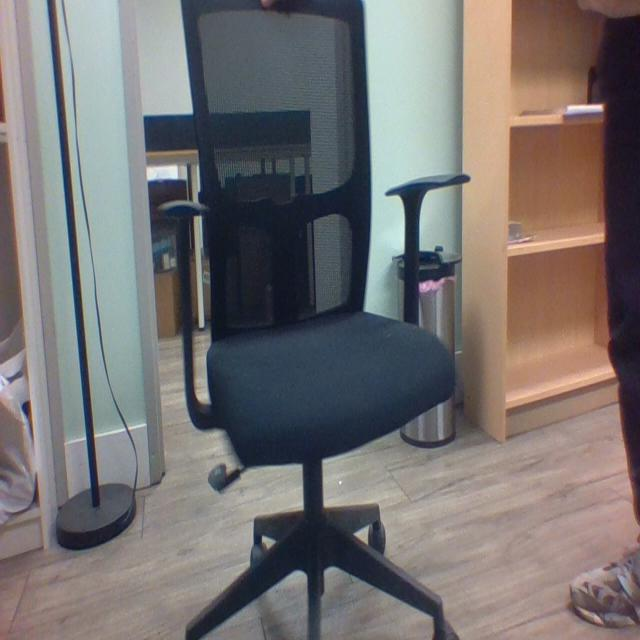black-chair: (165, 0, 473, 639)
